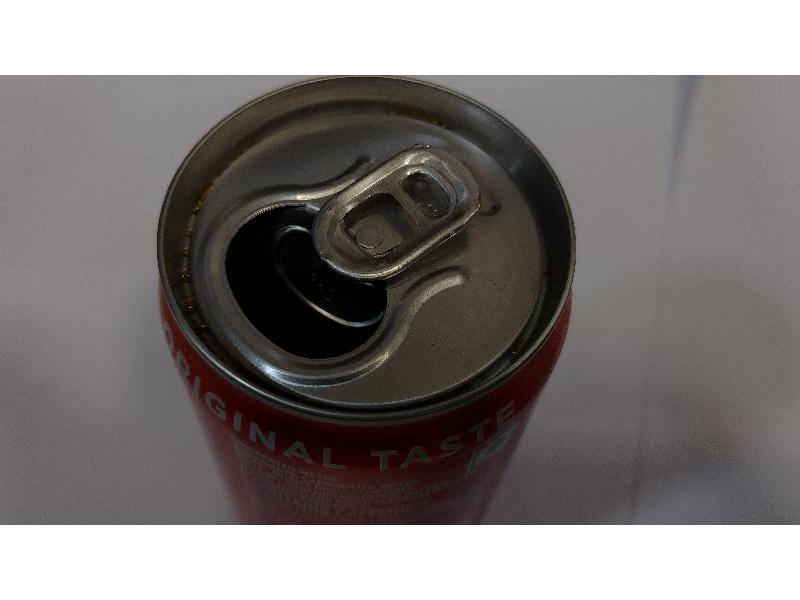can: (145, 75, 571, 526)
